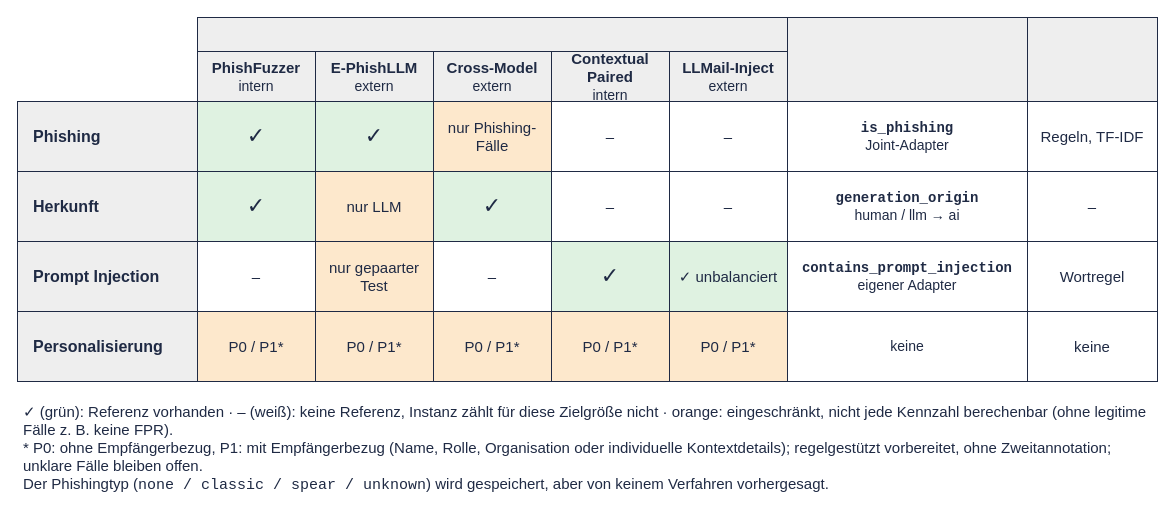
Image size: 1175x530. Some labels were removed from this diagram. Here are the shapes that lost their labels. From the top down, the centre of each, then its label:
At point (492, 34): "Referenzlabel im Testbestand".
At point (907, 59): "Native Modellausgabe".
At point (1092, 59): "Baselines".
